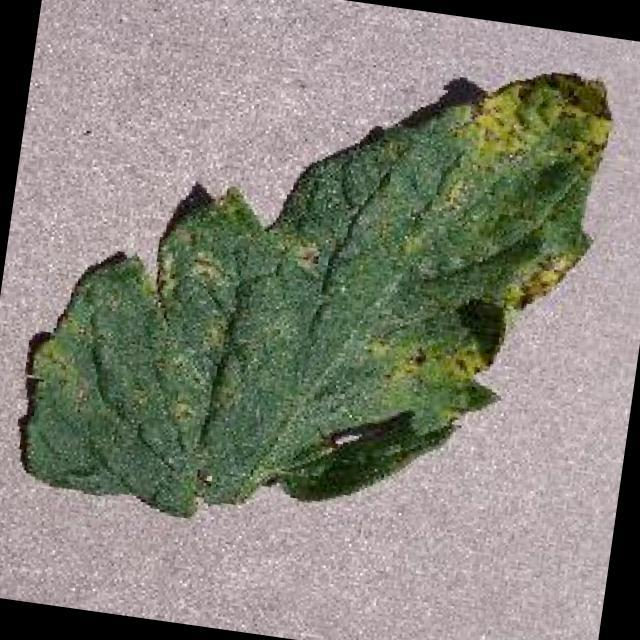Tomato Septoria spot leaf: (6, 0, 628, 573)
